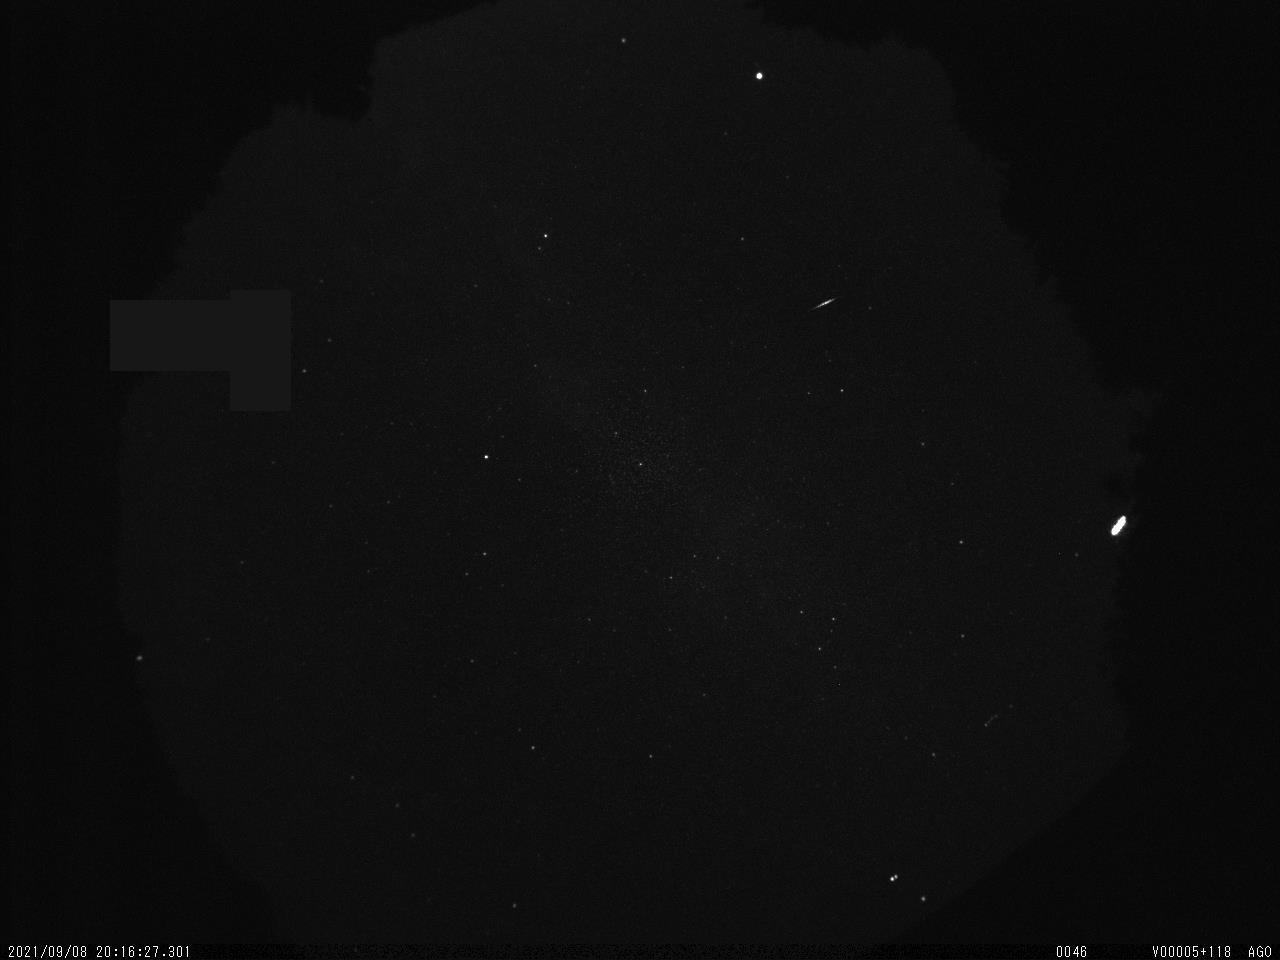meteor: (794, 283, 857, 324)
